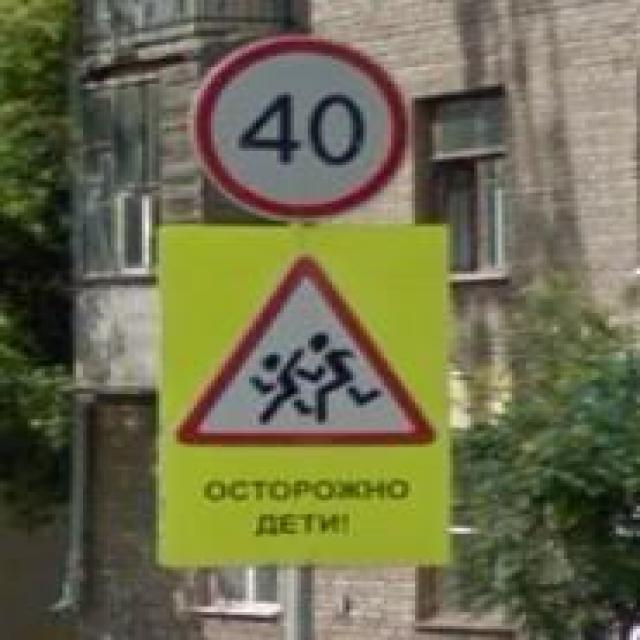Dzieci: (176, 252, 436, 447)
Ograniczenie predkosci do 40: (190, 36, 408, 218)
